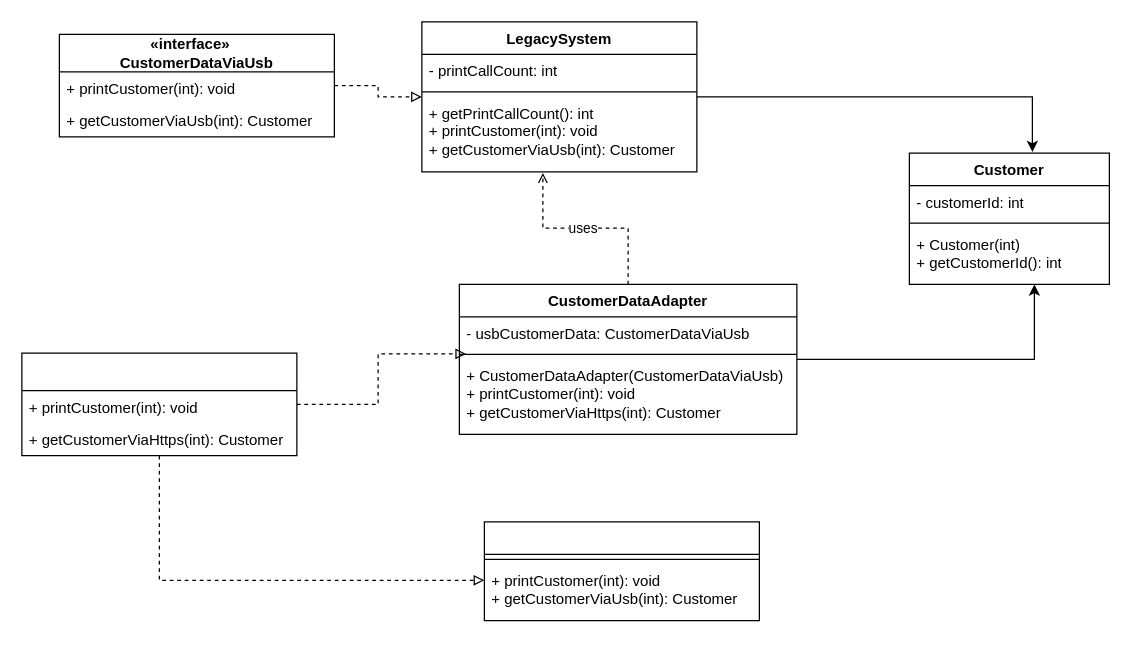
This 1131x646 diagram has some shape labels left out. The shapes that lost their labels are listed below. From the top down, each one's box as (x1, y1, x2, y2) in pixels, then its label:
(21, 352, 297, 456): «interface» CustomerDataViaHttps
(483, 521, 759, 621): ModernSystem
